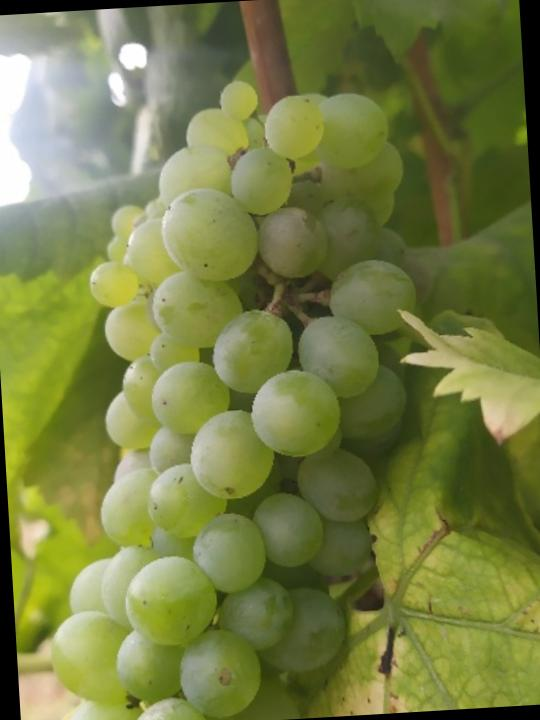grape: (0, 66, 447, 720)
